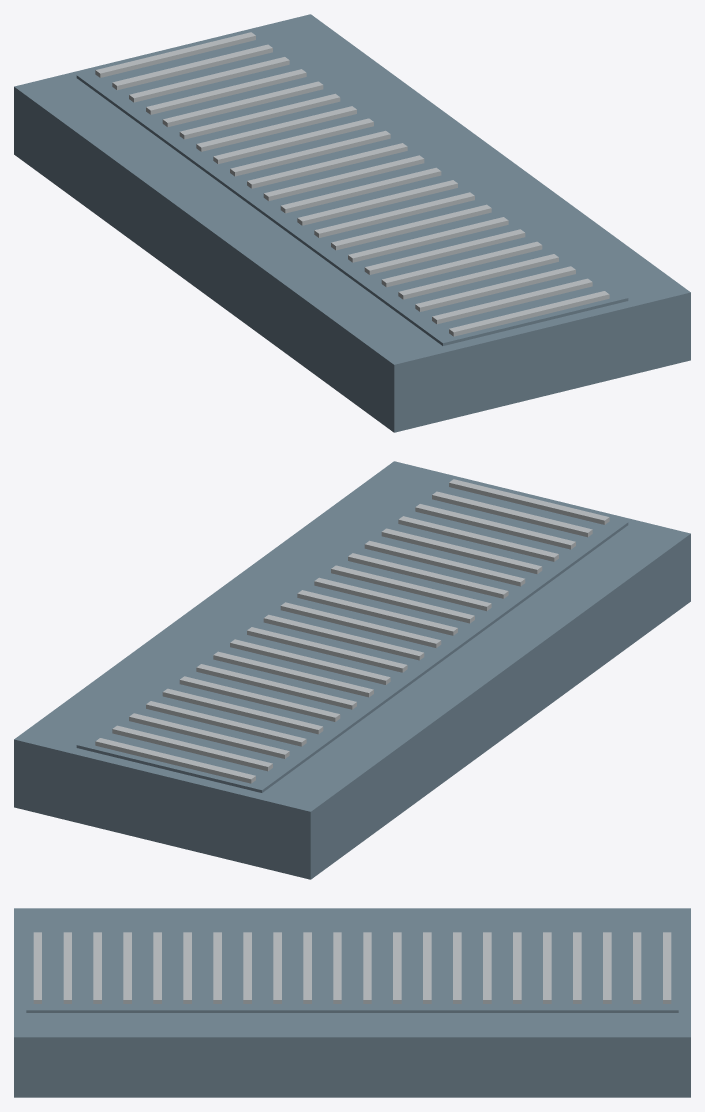
Rendered from 16_L79_GantryYCrossbeam.glb.
The picture shows the model from 3 angles, top to bottom: view 1: azimuth 30°, elevation 25°; view 2: azimuth 150°, elevation 25°; view 3: azimuth 270°, elevation 25°; orthographic projection. The views are drawn at different scales.
Parts seen in each view (by area): view 1: GantryYCrossbeam_Node_0000, GantryYCrossbeam_Node_0023, GantryYCrossbeam_Node_0005, GantryYCrossbeam_Node_0006, GantryYCrossbeam_Node_0011, GantryYCrossbeam_Node_0012, GantryYCrossbeam_Node_0017, GantryYCrossbeam_Node_0018, GantryYCrossbeam_Node_0014, GantryYCrossbeam_Node_0016, GantryYCrossbeam_Node_0001, GantryYCrossbeam_Node_0003 (+12 smaller); view 2: GantryYCrossbeam_Node_0000, GantryYCrossbeam_Node_0023, GantryYCrossbeam_Node_0012, GantryYCrossbeam_Node_0017, GantryYCrossbeam_Node_0018, GantryYCrossbeam_Node_0005, GantryYCrossbeam_Node_0006, GantryYCrossbeam_Node_0011, GantryYCrossbeam_Node_0007, GantryYCrossbeam_Node_0009, GantryYCrossbeam_Node_0002, GantryYCrossbeam_Node_0004 (+12 smaller); view 3: GantryYCrossbeam_Node_0000, GantryYCrossbeam_Node_0023, GantryYCrossbeam_Node_0001, GantryYCrossbeam_Node_0002, GantryYCrossbeam_Node_0003, GantryYCrossbeam_Node_0004, GantryYCrossbeam_Node_0005, GantryYCrossbeam_Node_0006, GantryYCrossbeam_Node_0007, GantryYCrossbeam_Node_0008, GantryYCrossbeam_Node_0009, GantryYCrossbeam_Node_0010 (+12 smaller).
Boxes of the visible parts, x1,y1,x2,y2 form: GantryYCrossbeam_Node_0000: (14, 14, 690, 432); GantryYCrossbeam_Node_0023: (76, 30, 628, 345); GantryYCrossbeam_Node_0005: (162, 81, 323, 127); GantryYCrossbeam_Node_0006: (179, 93, 340, 139); GantryYCrossbeam_Node_0011: (263, 155, 424, 201); GantryYCrossbeam_Node_0012: (280, 167, 441, 213); GantryYCrossbeam_Node_0017: (364, 229, 525, 274); GantryYCrossbeam_Node_0018: (381, 241, 542, 287); GantryYCrossbeam_Node_0014: (314, 192, 474, 237); GantryYCrossbeam_Node_0016: (348, 217, 508, 262); GantryYCrossbeam_Node_0001: (95, 32, 255, 77); GantryYCrossbeam_Node_0003: (129, 57, 289, 102); GantryYCrossbeam_Node_0000: (14, 461, 690, 879); GantryYCrossbeam_Node_0023: (76, 477, 628, 792); GantryYCrossbeam_Node_0012: (280, 602, 441, 648); GantryYCrossbeam_Node_0017: (364, 540, 525, 586); GantryYCrossbeam_Node_0018: (381, 528, 542, 574); GantryYCrossbeam_Node_0005: (162, 688, 323, 734); GantryYCrossbeam_Node_0006: (179, 676, 340, 721); GantryYCrossbeam_Node_0011: (263, 614, 424, 660); GantryYCrossbeam_Node_0007: (196, 664, 356, 709); GantryYCrossbeam_Node_0009: (230, 639, 390, 684); GantryYCrossbeam_Node_0002: (112, 725, 272, 771); GantryYCrossbeam_Node_0004: (146, 701, 306, 746); GantryYCrossbeam_Node_0000: (14, 908, 690, 1097); GantryYCrossbeam_Node_0023: (26, 930, 678, 1012); GantryYCrossbeam_Node_0001: (663, 932, 671, 1003); GantryYCrossbeam_Node_0002: (633, 932, 641, 1003); GantryYCrossbeam_Node_0003: (603, 932, 611, 1003); GantryYCrossbeam_Node_0004: (573, 932, 581, 1003); GantryYCrossbeam_Node_0005: (543, 932, 551, 1003); GantryYCrossbeam_Node_0006: (513, 932, 521, 1003); GantryYCrossbeam_Node_0007: (483, 932, 491, 1003); GantryYCrossbeam_Node_0008: (453, 932, 461, 1003); GantryYCrossbeam_Node_0009: (423, 932, 431, 1003); GantryYCrossbeam_Node_0010: (393, 932, 401, 1003).
Bounding box in the file's own units: 1.6 × 0.4025 × 3.55.
